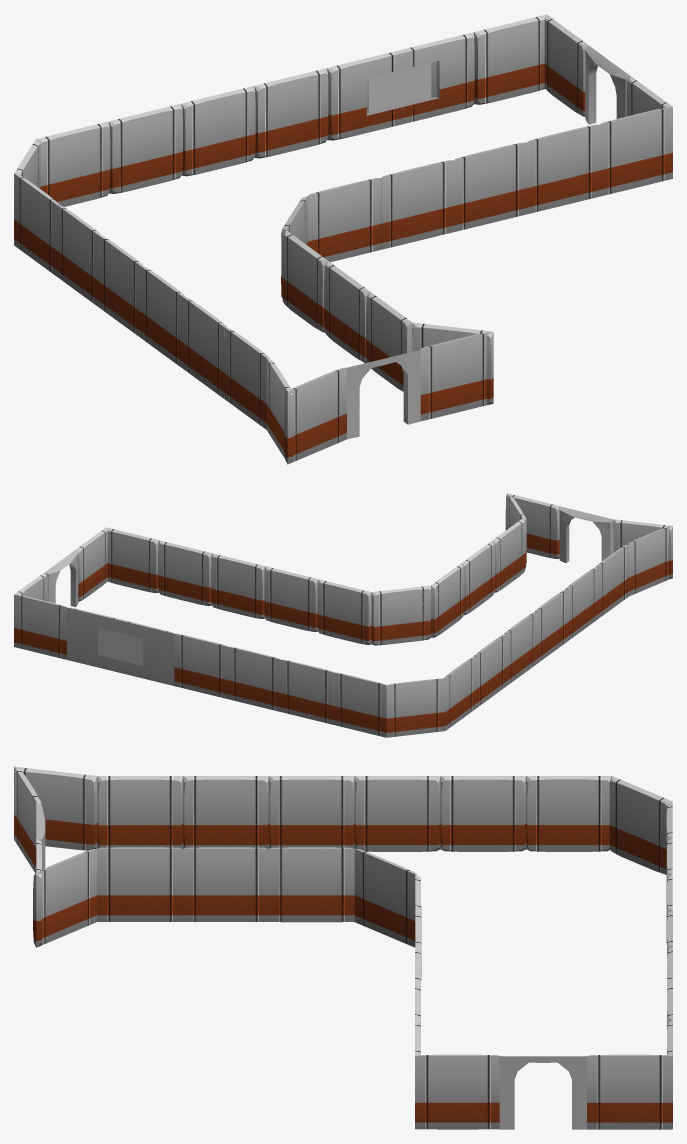
The model's file is Blockout.FBX.
The picture shows the model from 3 angles, top to bottom: view 1: azimuth 30°, elevation 25°; view 2: azimuth 150°, elevation 25°; view 3: azimuth 270°, elevation 25°; orthographic projection. The views are drawn at different scales.
Visible parts, largest first — view 1: Door:Door:Door:Door:Door:Door:Door:Door:Door:Door:Door:Door:; view 2: Door:Door:Door:Door:Door:Door:Door:Door:Door:Door:Door:Door:; view 3: Door:Door:Door:Door:Door:Door:Door:Door:Door:Door:Door:Door:.
Boxes of the visible parts, x1,y1,x2,y2 form: Door:Door:Door:Door:Door:Door:Door:Door:Door:Door:Door:Door:: (14,14,672,464); Door:Door:Door:Door:Door:Door:Door:Door:Door:Door:Door:Door:: (14,493,672,737); Door:Door:Door:Door:Door:Door:Door:Door:Door:Door:Door:Door:: (14,766,672,1129).
Bounding box in the file's own units: 20648 × 2448 × 19829.
